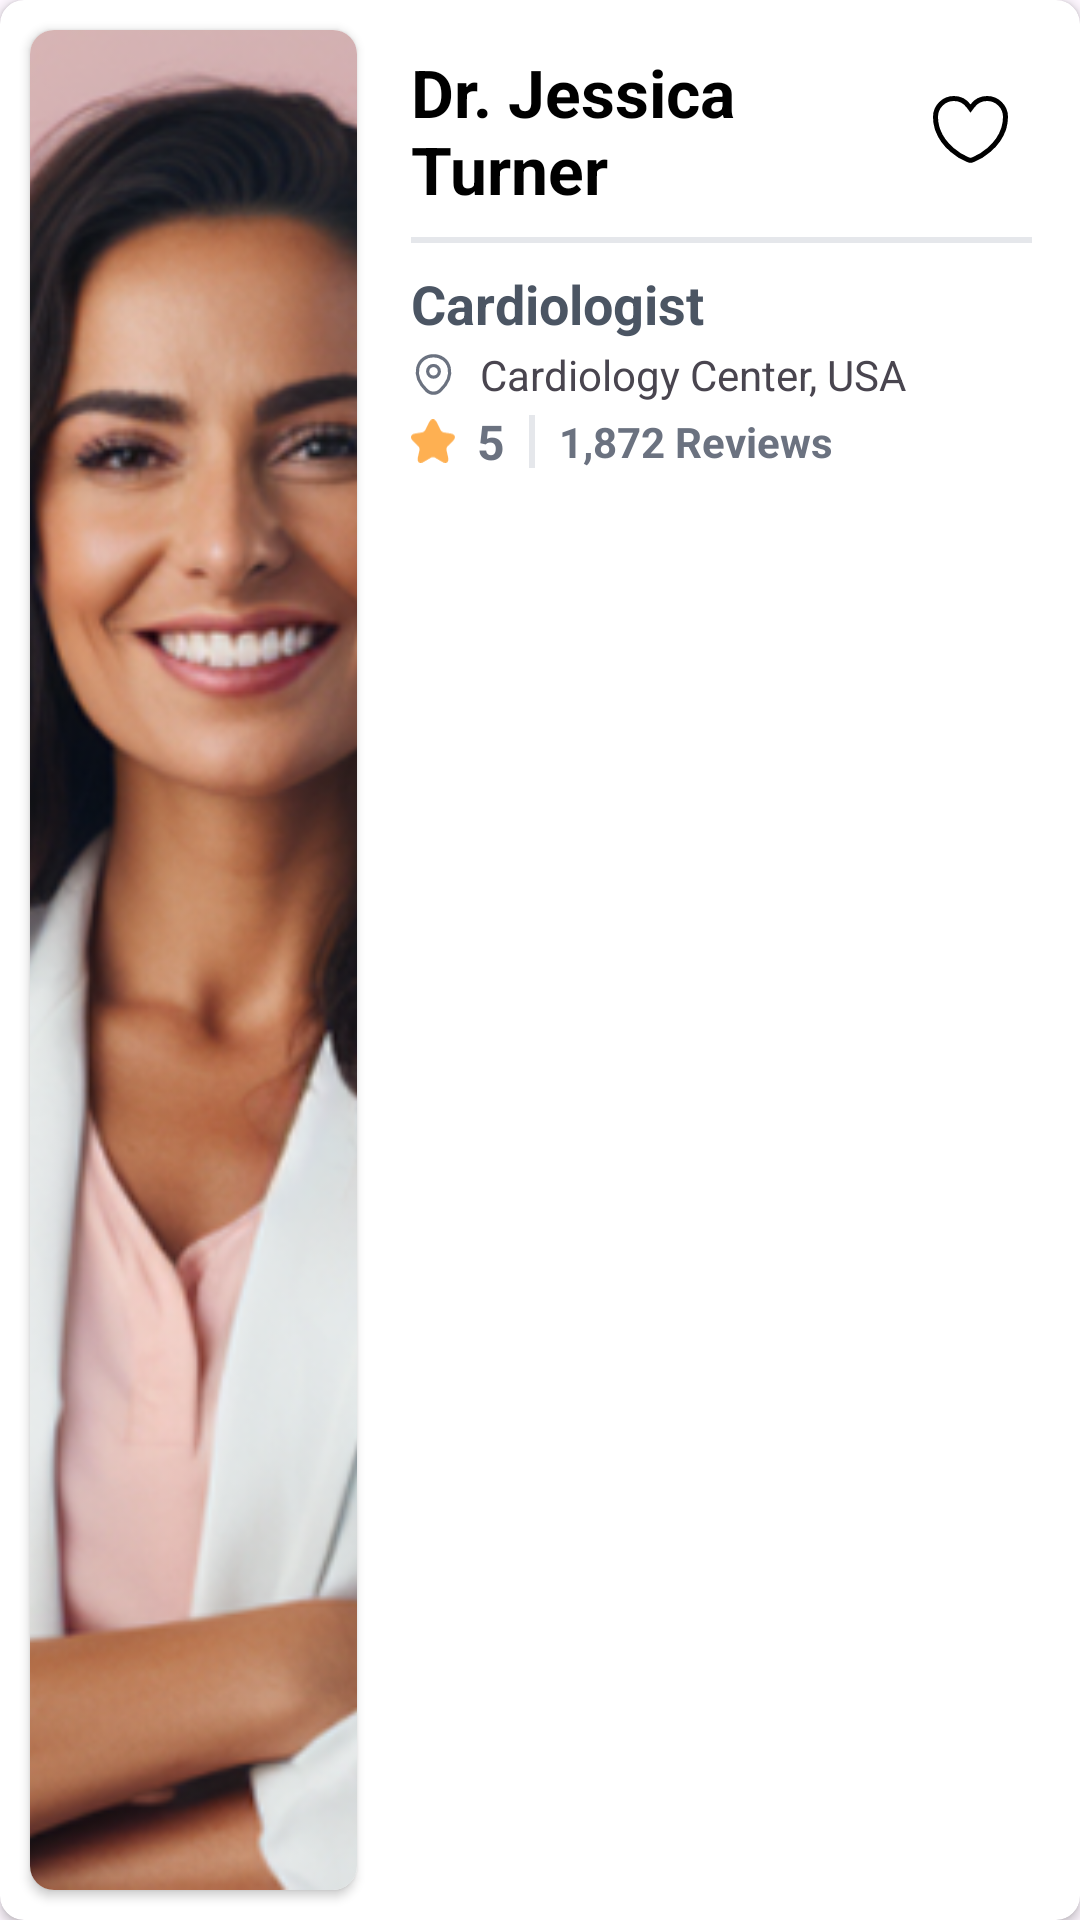

Icons on this 1080×1920 Android screen, each with its box as {"x1": x1, "y1": y1, "x2": x2, "y2": y2}:
heart: {"x1": 933, "y1": 96, "x2": 1008, "y2": 163}
location street: {"x1": 415, "y1": 354, "x2": 452, "y2": 395}
star: {"x1": 411, "y1": 419, "x2": 455, "y2": 463}
